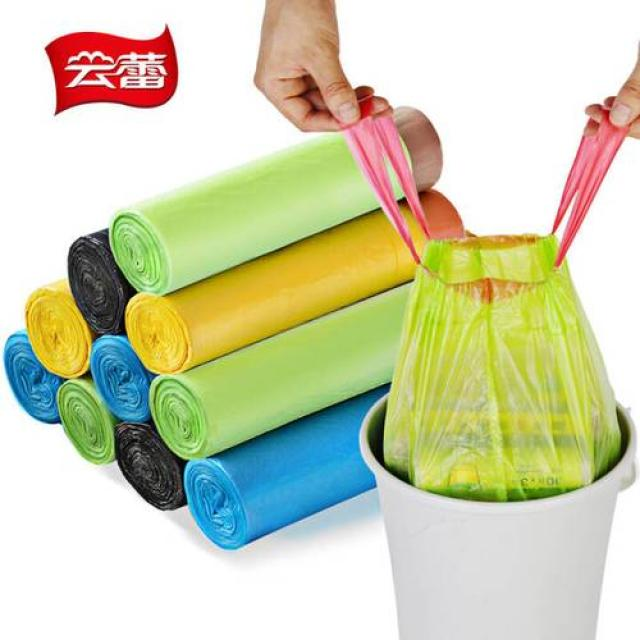dustbin: (352, 361, 640, 640)
